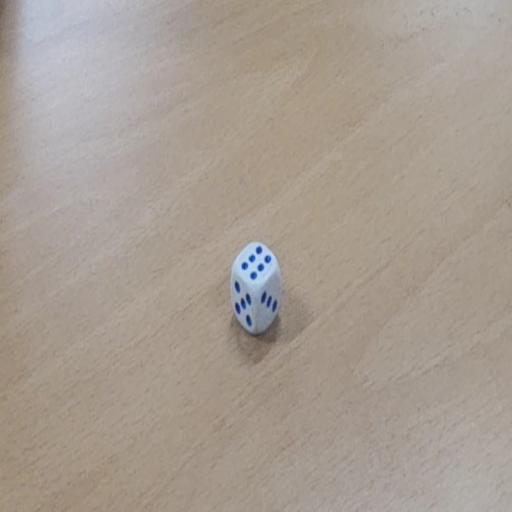dice_6: (230, 239, 283, 337)
